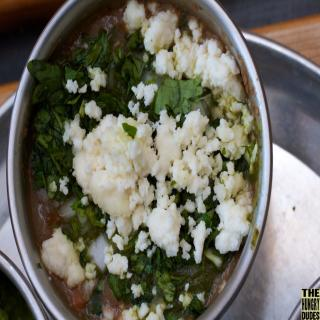Salad: (19, 0, 260, 320)
